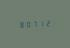eight: (18, 20, 24, 28)
one: (39, 19, 45, 27)
seven: (32, 20, 38, 27)
two: (46, 19, 52, 27)
zero: (25, 20, 31, 28)
